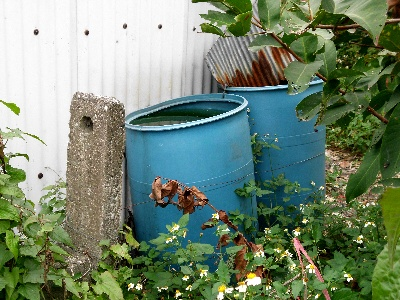bucket: (124, 91, 258, 284), (223, 78, 330, 231)
